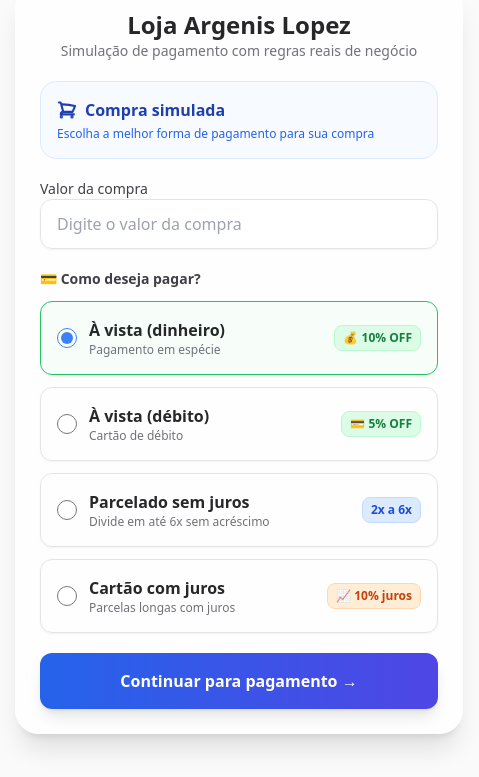
Componente PagamentoForm › deve mostrar o seletor de parcelas apenas para métodos parcelados
The image size is (479, 777).
Expected: the text "📊 Número de parcelas" is not shown
# Seleciona Cartão com juros
Click the radio button labelled "Cartão com juros Parcelas longas com juros 📈 10% juros". click: (67,596)
box: [57,586,77,606]
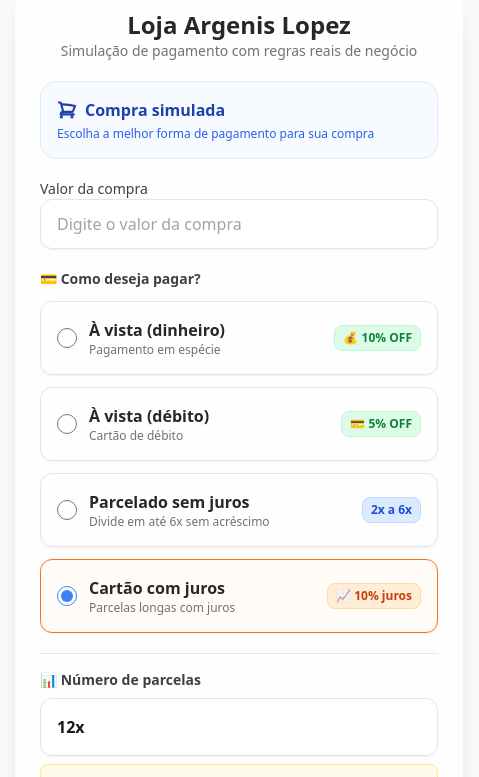
Expected: the text "📊 Número de parcelas" is shown, [40,670,201,689]
Expected: the dropdown is shown, [40,698,438,756]
